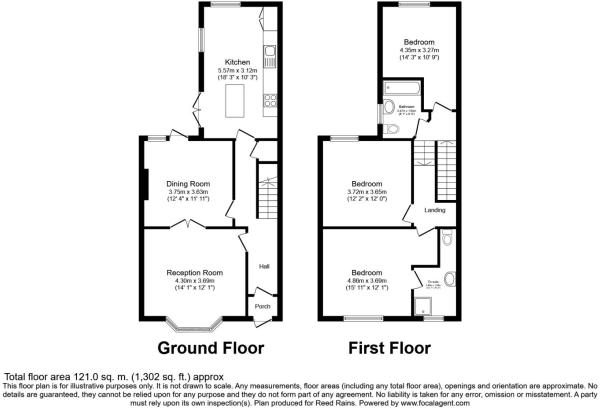GrossArea: (2, 370, 224, 382)
